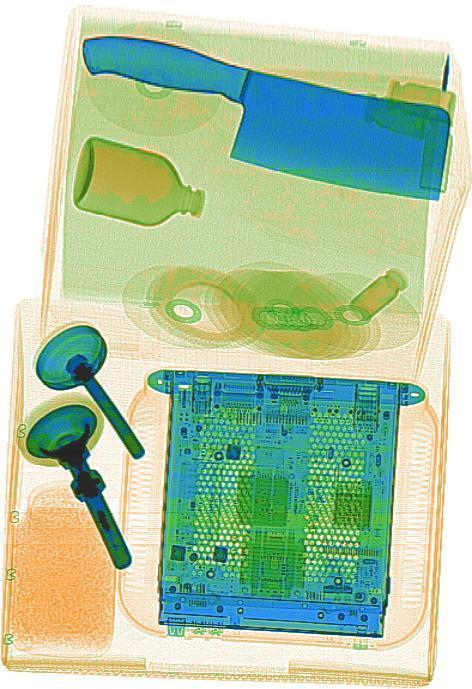Knife: (72, 14, 452, 209)
